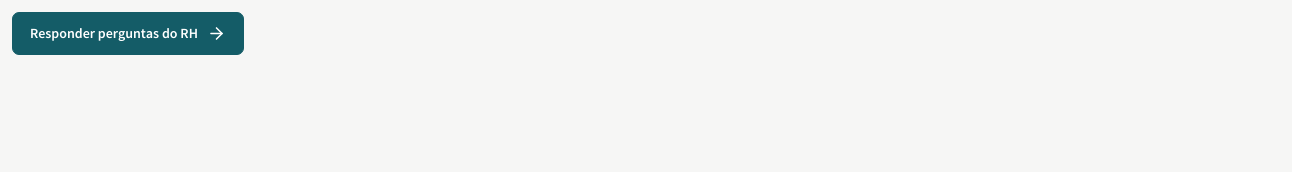
Scenario: opens only this application's form and displays server failures
Click the button "Responder perguntas do RH" at (128, 34), box [12,12,244,55]
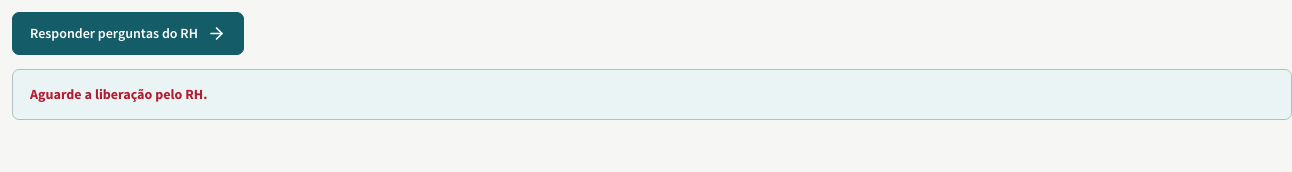
Expected: the text "Aguarde a liberação pelo RH." is shown, [30,85,207,103]
